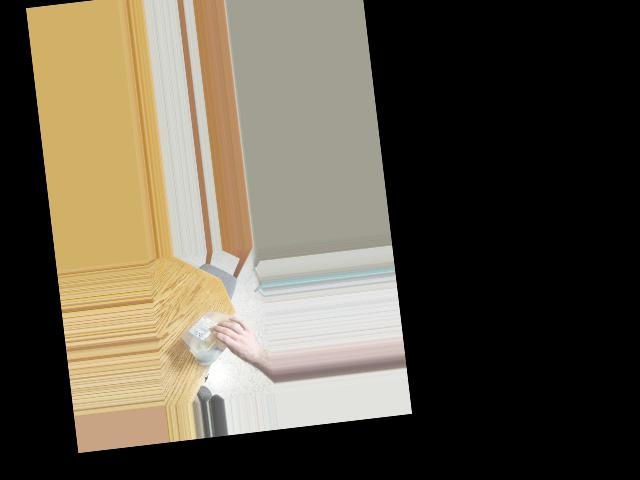cheese: (179, 307, 249, 366)
